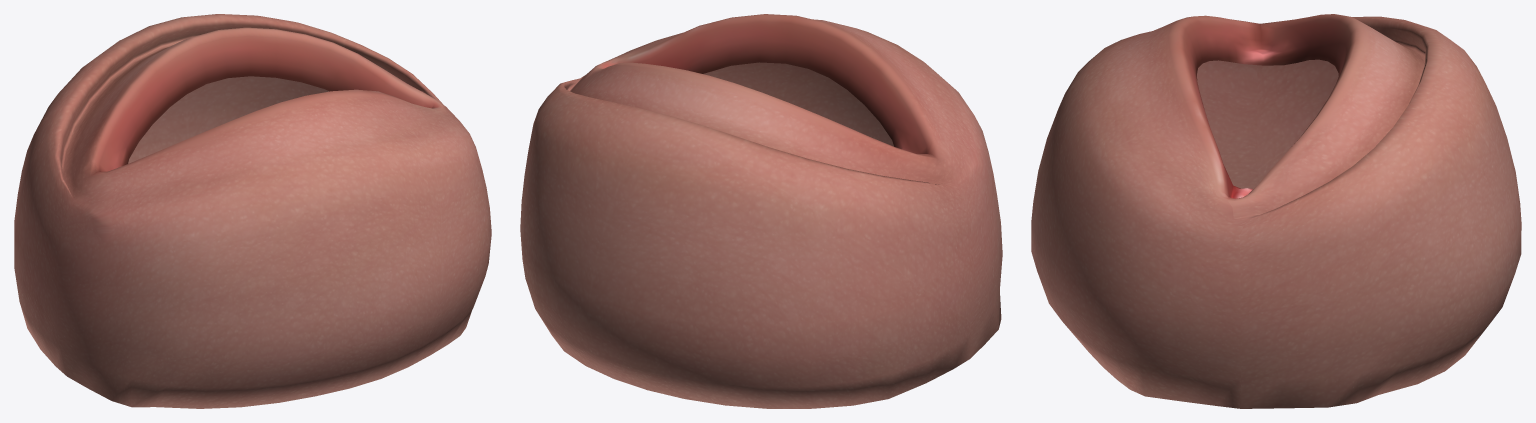
Rendered from Eyelid.FBX.
The picture shows the model from 3 angles, left to right: view 1: azimuth 30°, elevation 25°; view 2: azimuth 150°, elevation 25°; view 3: azimuth 270°, elevation 25°; orthographic projection. The views are drawn at different scales.
Parts seen in each view (by area): view 1: Eyelid_eye; view 2: Eyelid_eye; view 3: Eyelid_eye.
Part boxes in pixels (x1,y1,x2,y2): Eyelid_eye: (14, 14, 491, 408); Eyelid_eye: (520, 14, 1002, 408); Eyelid_eye: (1031, 14, 1521, 408).
Bounding box in the file's own units: 4.23 × 2.63 × 4.2.
1 material, 1 textured.
